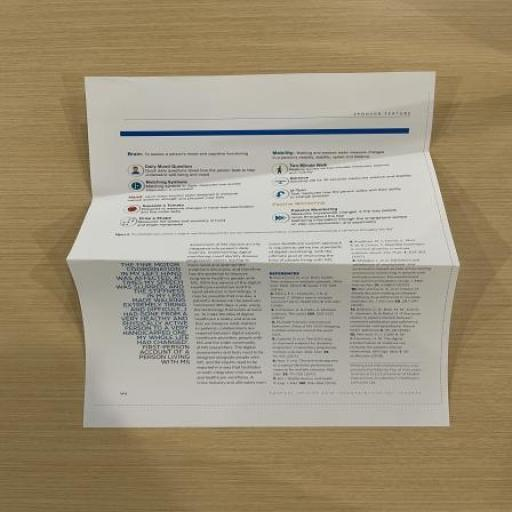paper: (31, 36, 496, 458)
